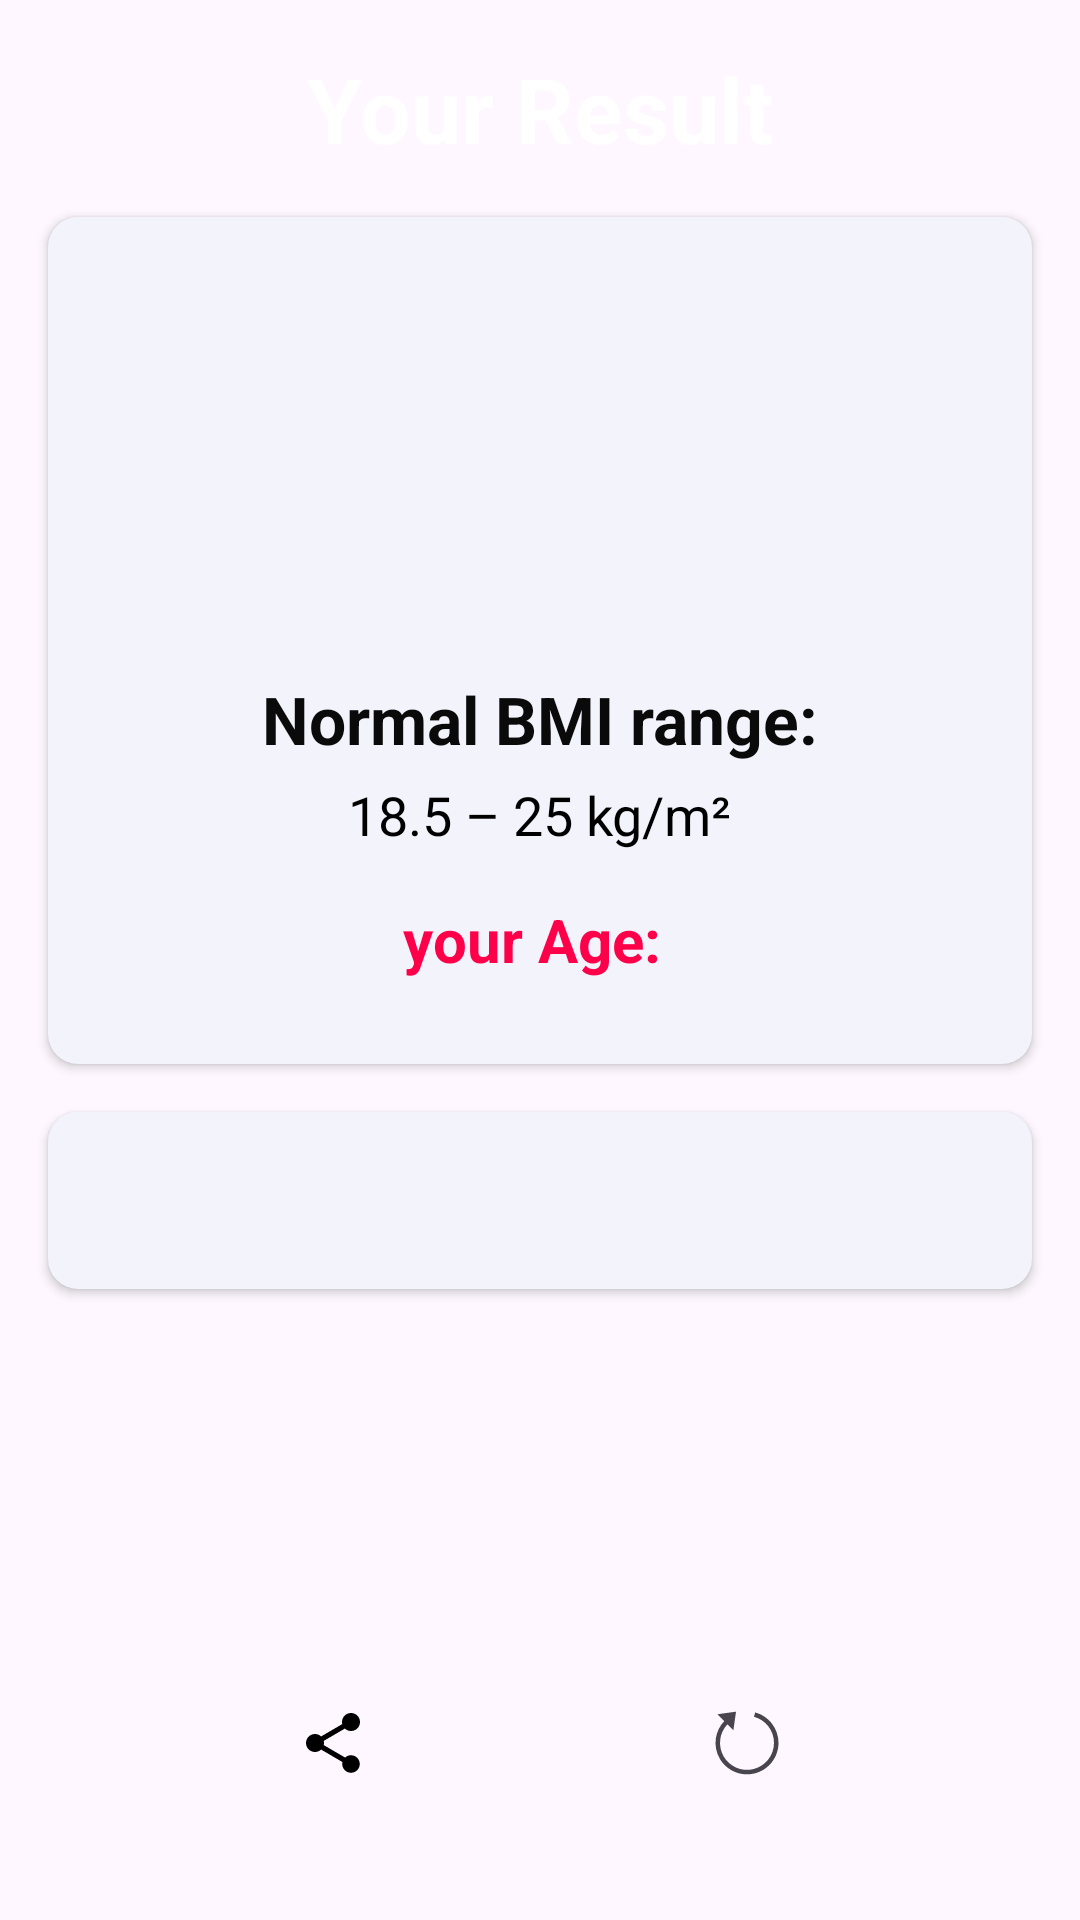

Named icons in this screenshot (1080px x 1920px) and their centers, (x,y):
Recalculate your BMI: (747,1743)
share your Result: (333,1743)
